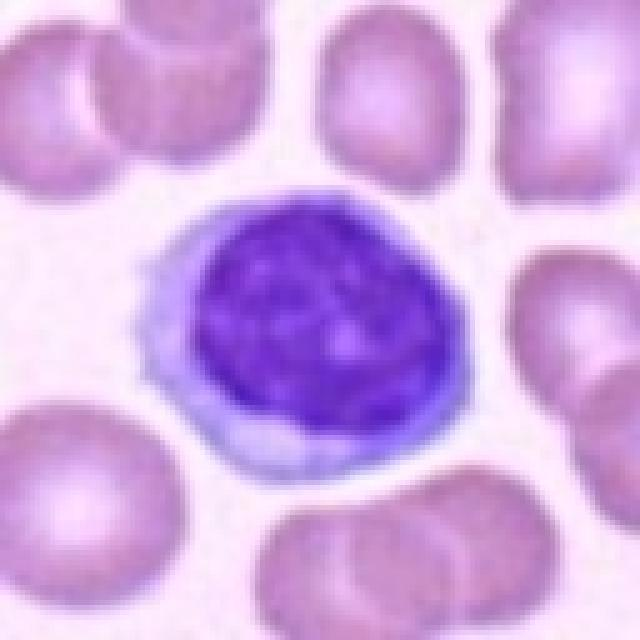lympho: (129, 180, 489, 489)
